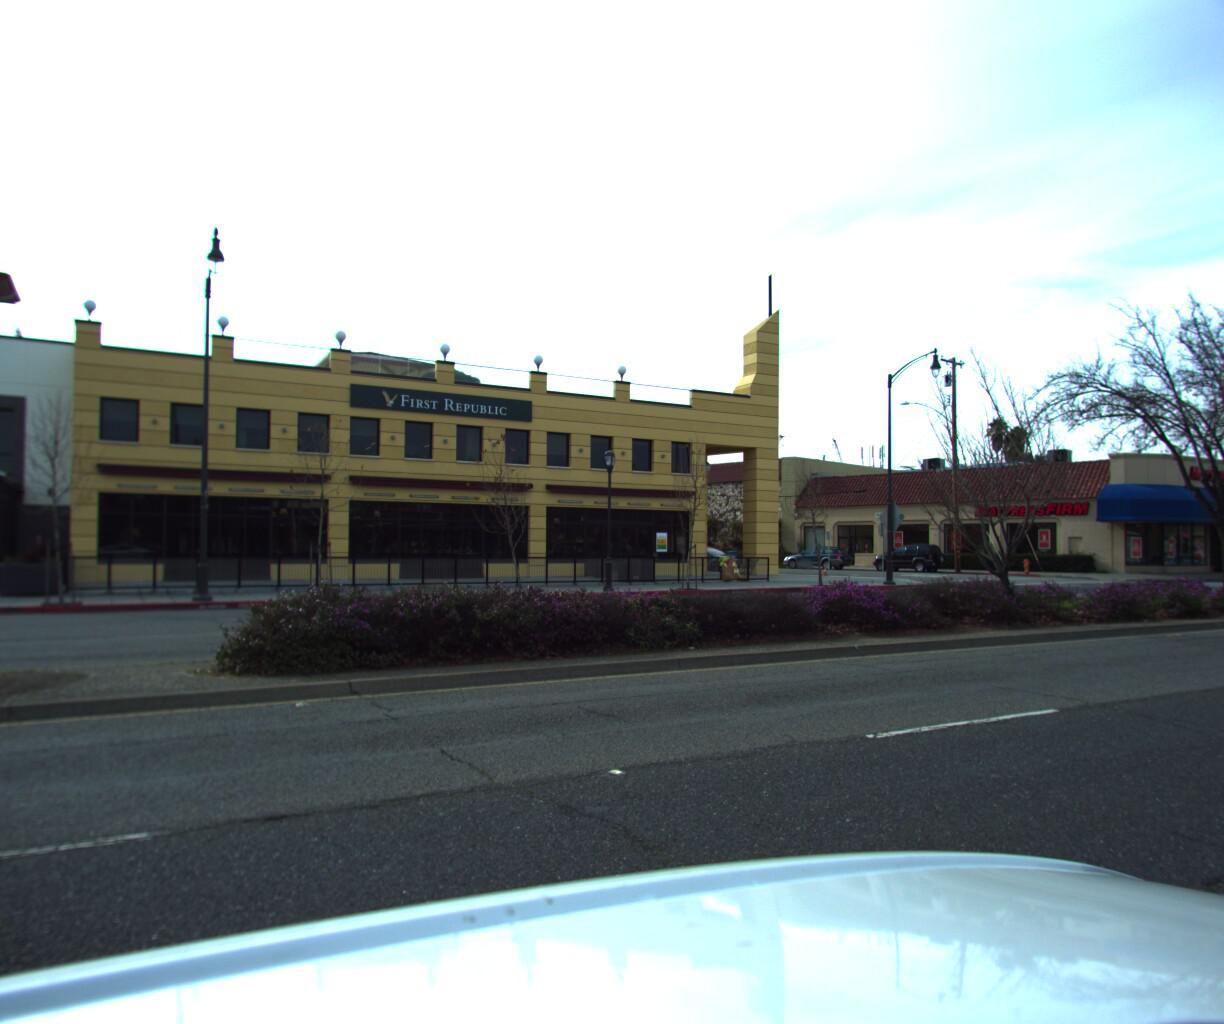car: (861, 539, 951, 569), (777, 540, 853, 567)
